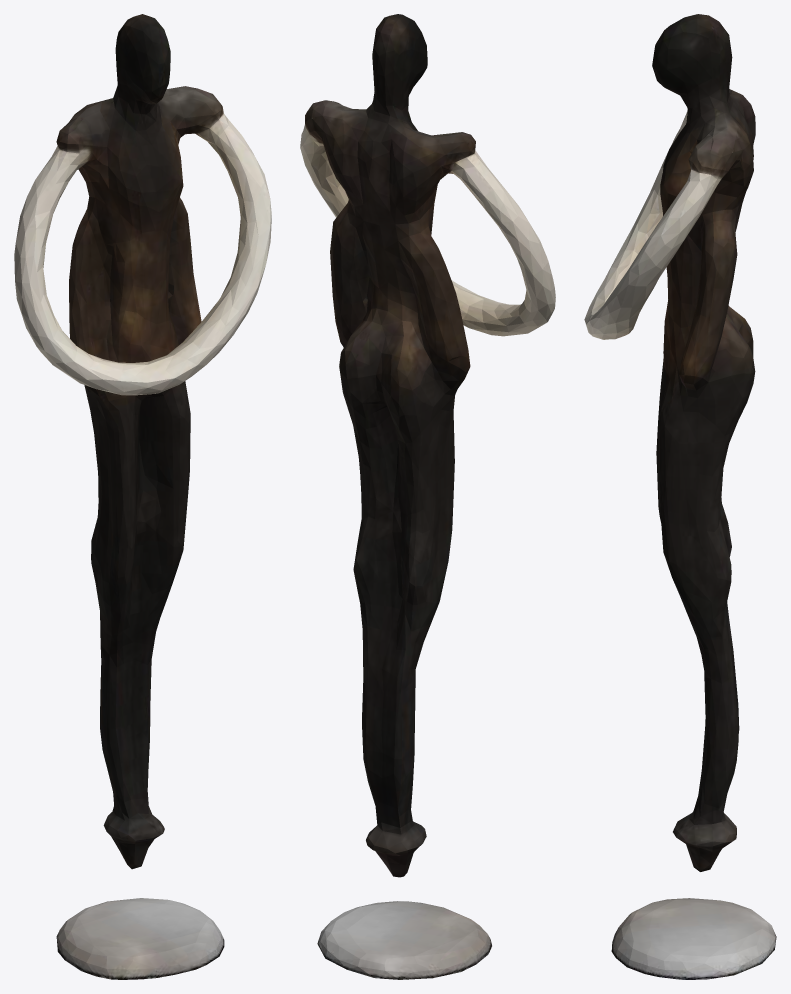
File: ring-lamp.glb
3 renders of one model, left to right at view 1: azimuth 30°, elevation 25°; view 2: azimuth 150°, elevation 25°; view 3: azimuth 270°, elevation 25°, orthographic.
Parts seen in each view (by area): view 1: geometry_0; view 2: geometry_0; view 3: geometry_0.
Boxes of the visible parts, x1,y1,x2,y2 form: geometry_0: [14, 14, 271, 979]; geometry_0: [300, 14, 555, 979]; geometry_0: [584, 14, 776, 979].
Size of the model in its own units: 0.2742 by 1 by 0.1869.
Materials: 1 (1 with a texture image).
